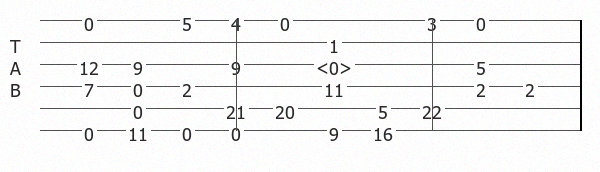0: (84, 12, 98, 29), (84, 122, 98, 139), (133, 100, 147, 117), (133, 78, 147, 95), (182, 122, 196, 139), (231, 122, 245, 139), (280, 12, 294, 29), (476, 12, 490, 29)
1: (329, 34, 343, 51)
11: (128, 122, 152, 139), (324, 78, 348, 95)
12: (79, 56, 103, 73)
16: (373, 122, 397, 139)
2: (182, 78, 196, 95), (476, 78, 490, 95), (525, 78, 539, 95)
20: (275, 100, 299, 117)
21: (226, 100, 250, 117)
22: (422, 100, 446, 117)
3: (427, 12, 441, 29)
4: (231, 12, 245, 29)
5: (182, 12, 196, 29), (378, 100, 392, 117), (476, 56, 490, 73)
7: (84, 78, 98, 95)
9: (133, 56, 147, 73), (231, 56, 245, 73), (329, 122, 343, 139)
harmonic: (316, 56, 356, 73)
